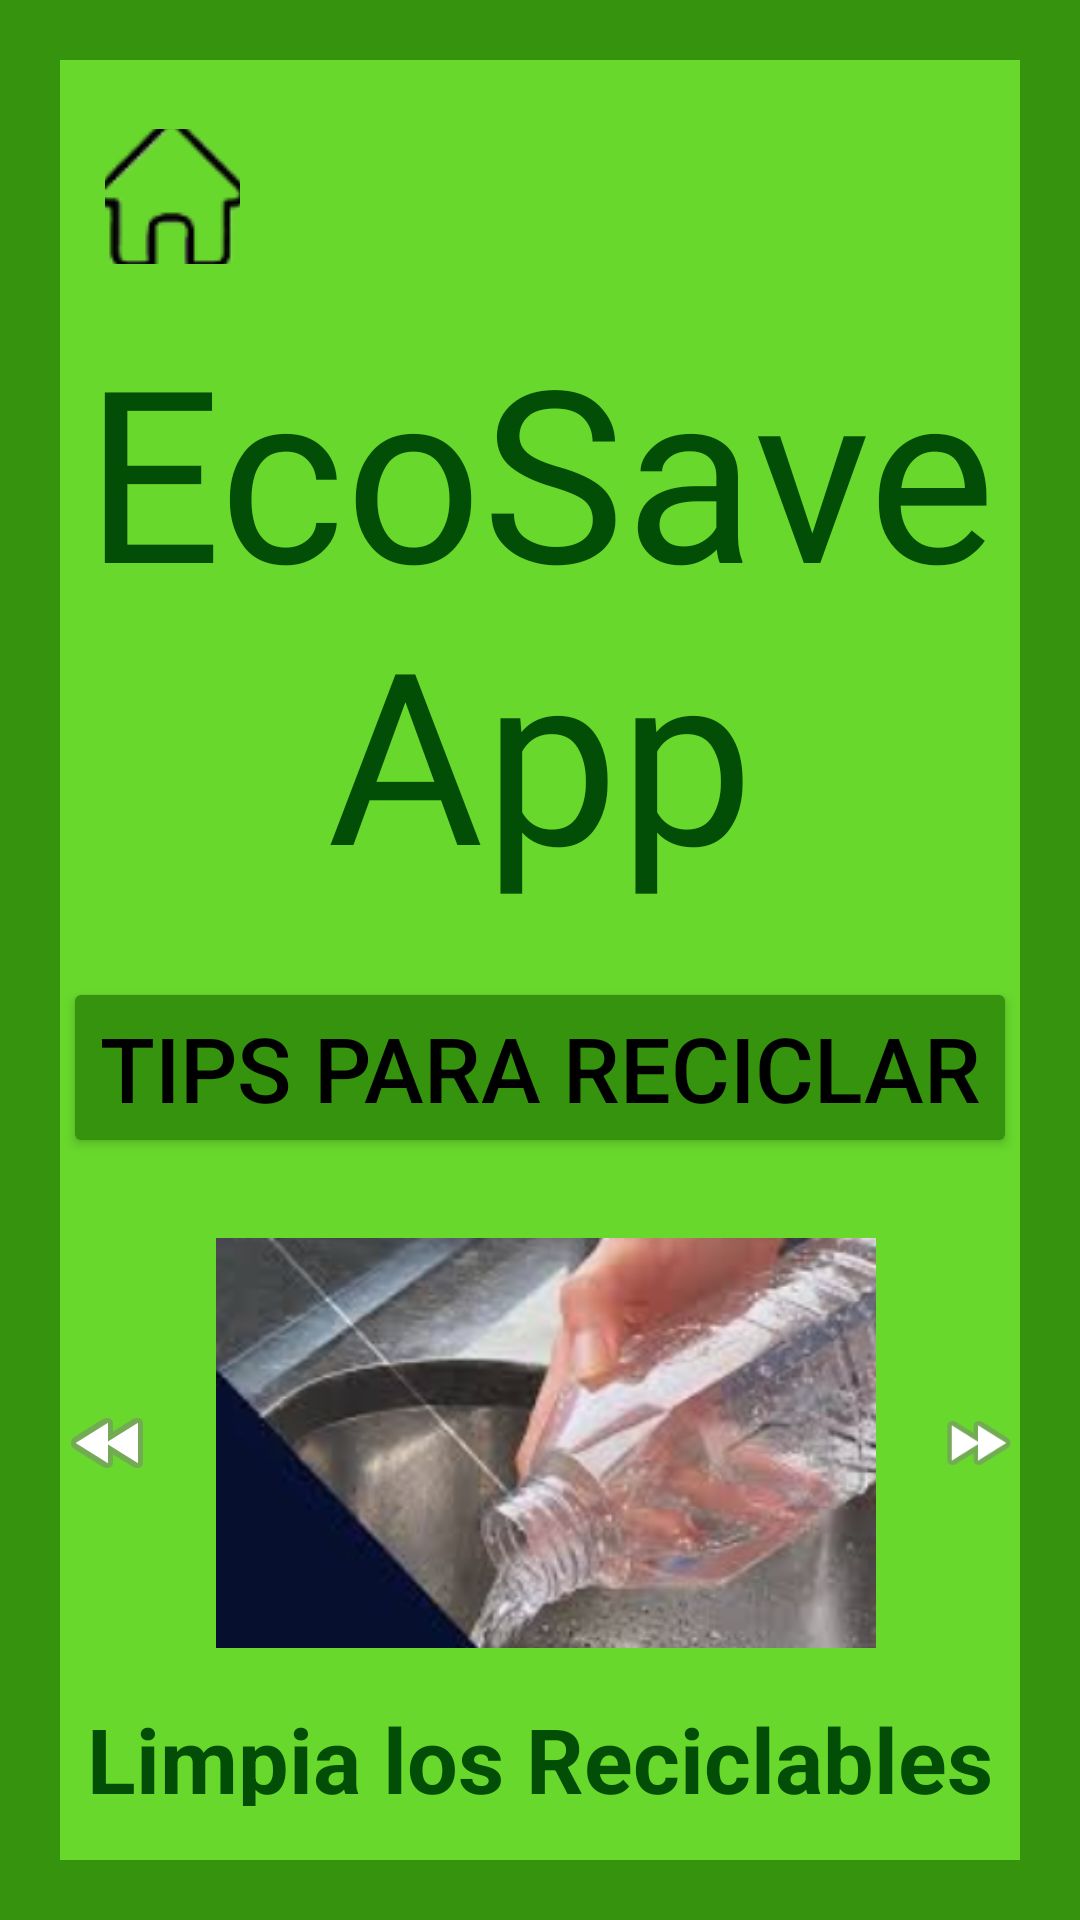

Screen size 1080×1920. Icon name, then its box in pixels as (x1, y1, x2, y2):
casa: (105, 129, 240, 264)
rew: (71, 1418, 143, 1468)
